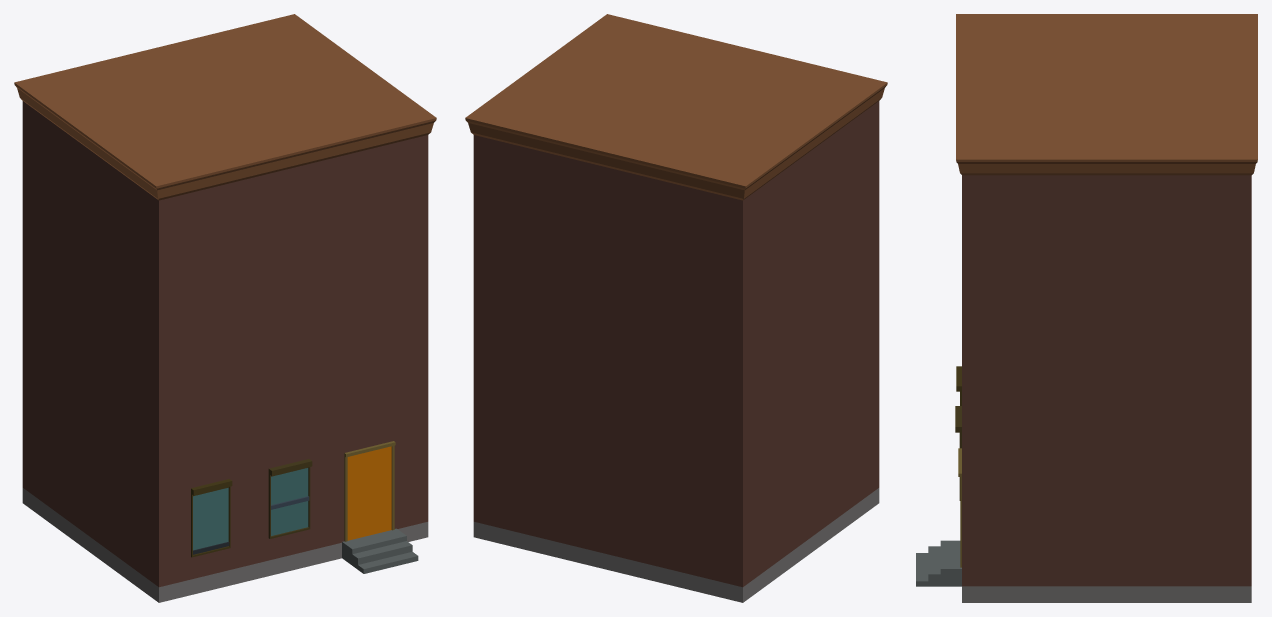
Rendered from 4_story.fbx.
3 renders of one model, left to right at view 1: azimuth 30°, elevation 25°; view 2: azimuth 150°, elevation 25°; view 3: azimuth 270°, elevation 25°, orthographic. The views are drawn at different scales.
Visible parts, largest first — view 1: pCube1, pCube2, pCube4, pCube5, pCube3; view 2: pCube1; view 3: pCube1, pCube3.
Part boxes in pixels (x1=…): pCube1: x1=14, y1=14, x2=436, y2=602; pCube2: x1=344, y1=441, x2=395, y2=541; pCube4: x1=268, y1=459, x2=312, y2=538; pCube5: x1=191, y1=479, x2=232, y2=557; pCube3: x1=342, y1=528, x2=418, y2=573; pCube1: x1=465, y1=14, x2=887, y2=602; pCube1: x1=956, y1=14, x2=1257, y2=602; pCube3: x1=916, y1=540, x2=961, y2=586.
Size of the model in its own units: 951 by 1360 by 944.
